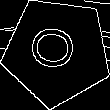O_E: (29, 27, 85, 76)
